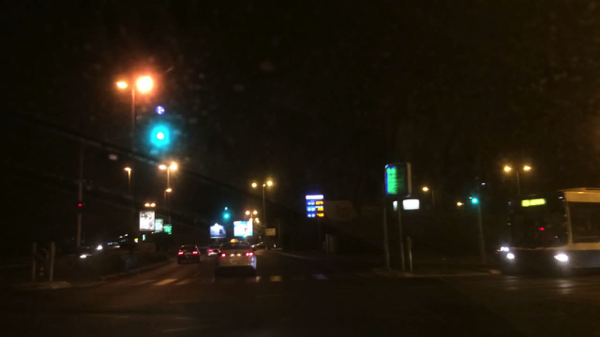bus: (497, 184, 598, 276)
car: (214, 239, 258, 277), (176, 244, 200, 263), (79, 247, 101, 258), (207, 246, 219, 257), (107, 241, 121, 250), (251, 244, 258, 254)
traffic light: (155, 125, 167, 146), (471, 188, 479, 205), (77, 199, 84, 211), (223, 209, 229, 221)
traffic sign: (383, 164, 412, 197), (304, 193, 324, 217), (391, 199, 418, 211), (139, 212, 155, 230), (234, 221, 251, 237), (155, 105, 166, 116), (155, 220, 162, 233), (265, 228, 275, 237), (162, 225, 172, 233)
